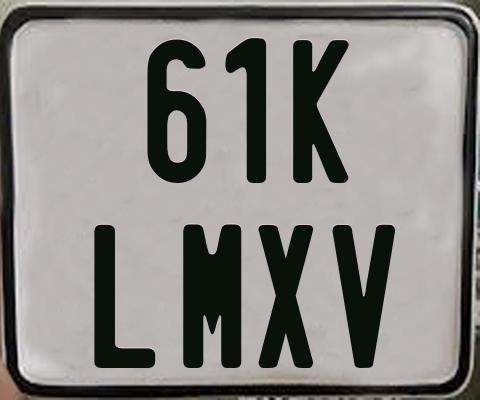1: (223, 37, 264, 184)
6: (146, 38, 207, 182)
K: (292, 38, 353, 185)
L: (94, 223, 159, 372)
M: (183, 221, 241, 366)
V: (332, 223, 395, 367)
X: (257, 224, 314, 367)
